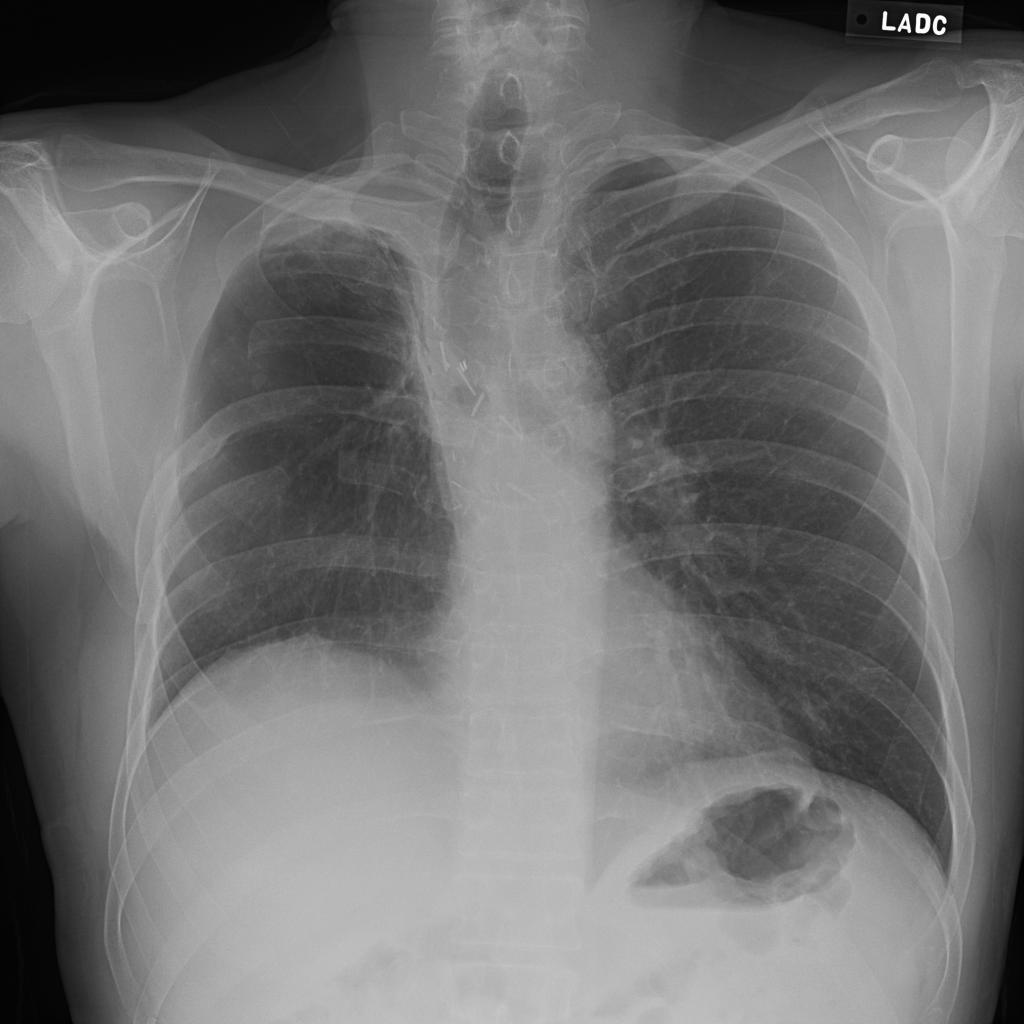Nodule: (110, 173, 151, 210)
